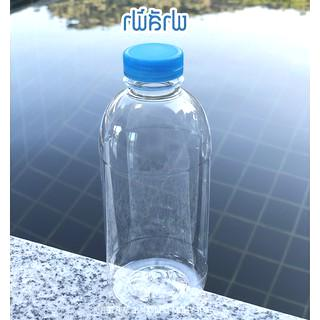bottle: (95, 40, 218, 318)
